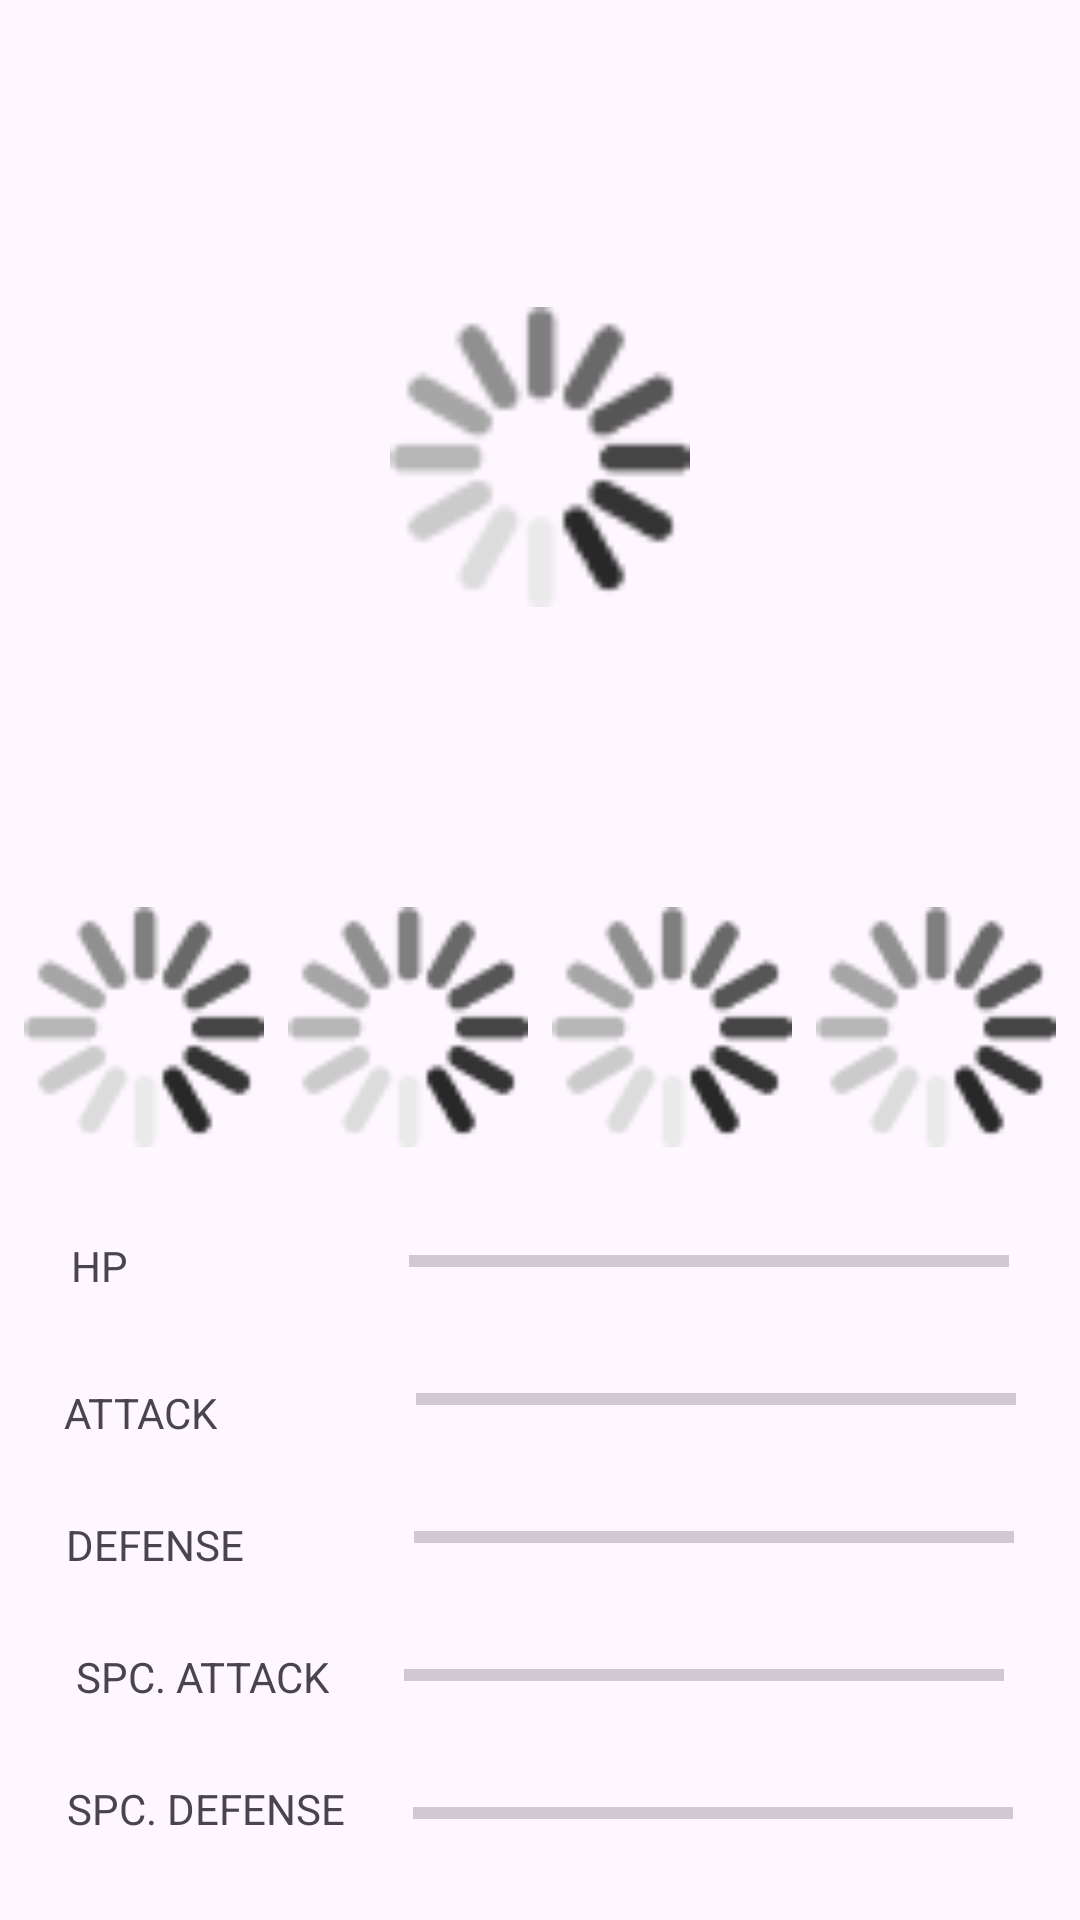

Locate icon controls on the screen. Image size 1080 × 1920, boxes as (x1=x1, y1=y1, x2=x2, y2=y2).
loading: (x1=390, y1=307, x2=690, y2=592), (x1=24, y1=907, x2=264, y2=1135), (x1=288, y1=907, x2=528, y2=1135), (x1=552, y1=907, x2=792, y2=1135), (x1=816, y1=907, x2=1056, y2=1135)
